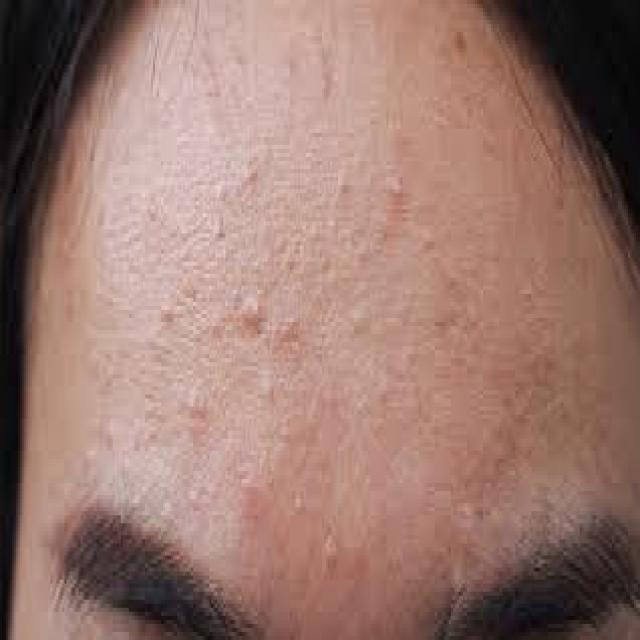Acne: (321, 510, 339, 578), (240, 290, 262, 334), (186, 382, 208, 424), (386, 168, 410, 206), (158, 300, 176, 332)
